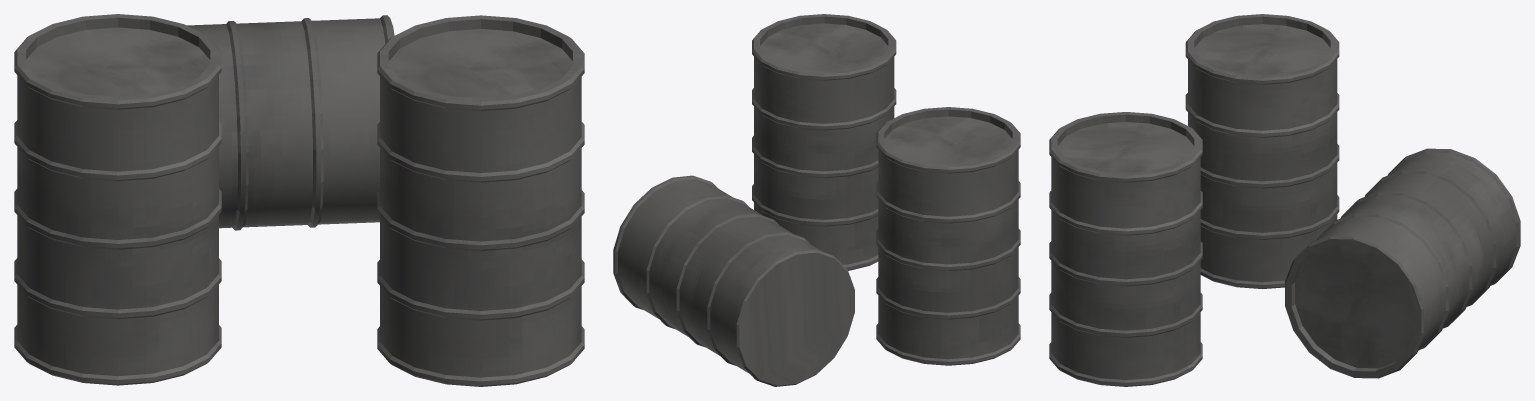
The model's file is barrel_rubble.FBX.
3 renders of one model, left to right at view 1: azimuth 30°, elevation 25°; view 2: azimuth 150°, elevation 25°; view 3: azimuth 270°, elevation 25°, orthographic. The views are drawn at different scales.
Parts seen in each view (by area): view 1: barrel, barrel001, barrel002, barrel lid001, barrel lid; view 2: barrel002, barrel001, barrel, barrel lid, barrel lid001; view 3: barrel, barrel001, barrel002, barrel lid002, barrel lid001, barrel lid.
Part boxes in pixels (left/top/right/bottom): barrel: left=377, top=15, right=584, bottom=386; barrel001: left=14, top=14, right=221, bottom=385; barrel002: left=187, top=15, right=394, bottom=230; barrel lid001: left=26, top=27, right=210, bottom=96; barrel lid: left=388, top=29, right=572, bottom=98; barrel002: left=613, top=175, right=854, bottom=386; barrel001: left=876, top=107, right=1020, bottom=365; barrel: left=752, top=14, right=896, bottom=270; barrel lid: left=760, top=23, right=888, bottom=71; barrel lid001: left=884, top=116, right=1012, bottom=164; barrel: left=1049, top=112, right=1202, bottom=386; barrel001: left=1185, top=14, right=1339, bottom=288; barrel002: left=1285, top=148, right=1520, bottom=378; barrel lid002: left=1295, top=245, right=1415, bottom=368; barrel lid001: left=1194, top=24, right=1330, bottom=75; barrel lid: left=1057, top=122, right=1194, bottom=172.
Size of the model in its own units: 1.87 by 1.1 by 2.22.
1 material, 1 textured.
